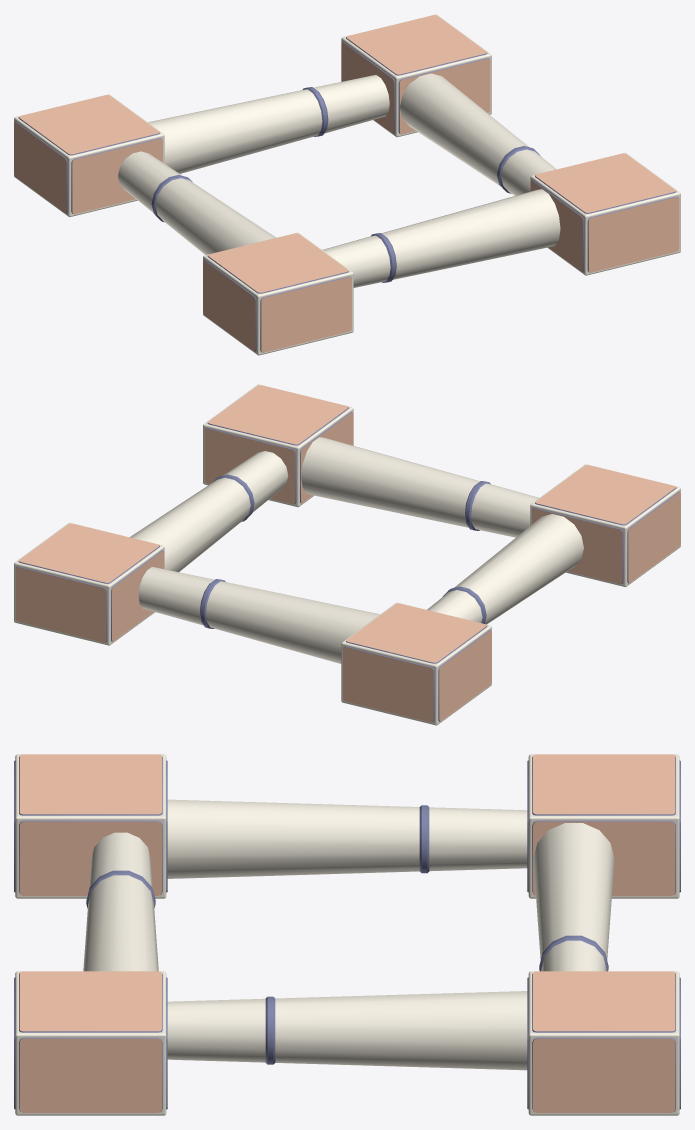
File: R4C_ROD_FRAME.fbx
3 renders of one model, top to bottom at view 1: azimuth 30°, elevation 25°; view 2: azimuth 150°, elevation 25°; view 3: azimuth 270°, elevation 25°, orthographic. The views are drawn at different scales.
Parts seen in each view (by area): view 1: R4C_ROD_FRAME; view 2: R4C_ROD_FRAME; view 3: R4C_ROD_FRAME.
Part boxes in pixels (x1,y1,x2,y2): R4C_ROD_FRAME: (14,14,680,355); R4C_ROD_FRAME: (14,384,680,725); R4C_ROD_FRAME: (14,754,680,1115).
Size of the model in its own units: 1.62 by 0.226 by 1.62.
